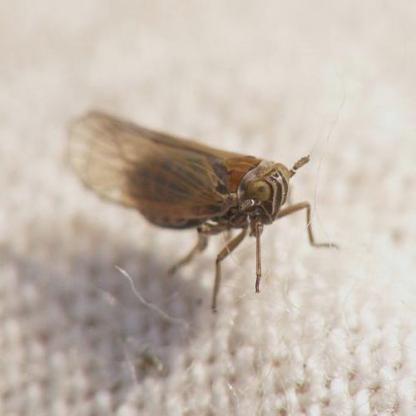brown-planthopper: (66, 110, 315, 292)
